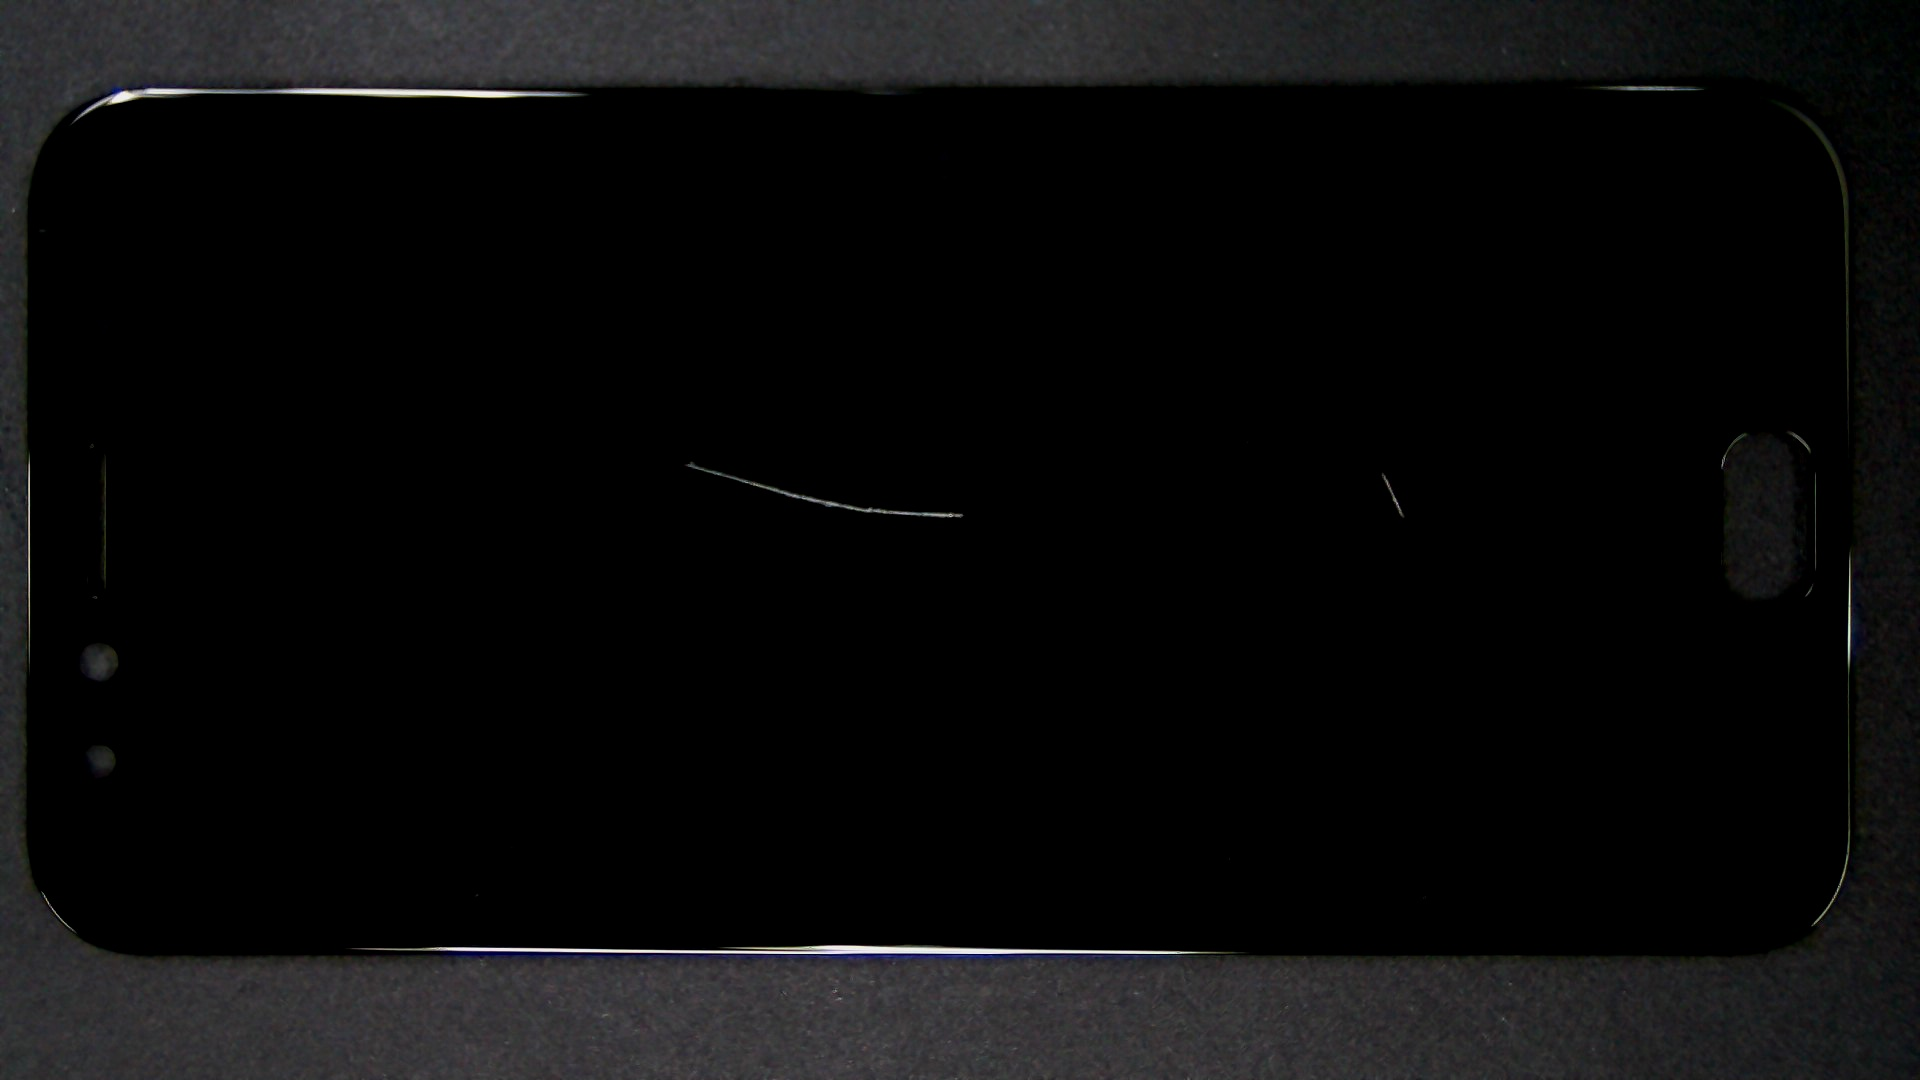oil: (692, 233, 1920, 705), (345, 229, 1033, 692)
